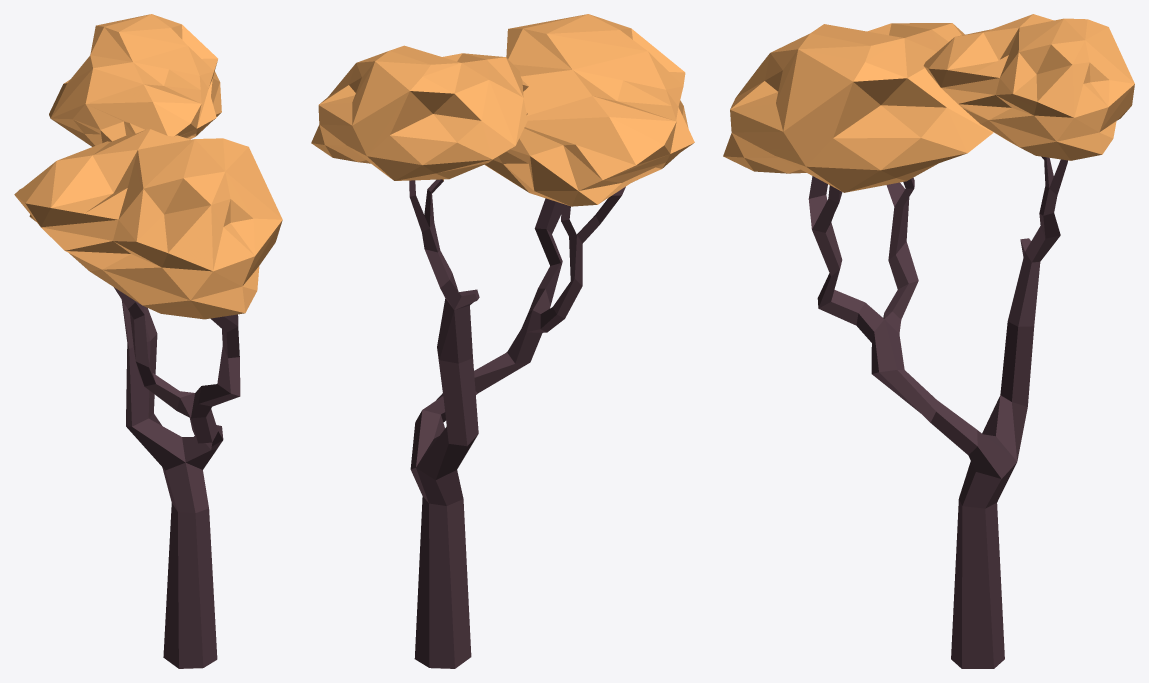
File: Tree1.fbx
The picture shows the model from 3 angles, left to right: view 1: azimuth 30°, elevation 25°; view 2: azimuth 150°, elevation 25°; view 3: azimuth 270°, elevation 25°; orthographic projection. The views are drawn at different scales.
Parts seen in each view (by area): view 1: SM_Env_Tree_01; view 2: SM_Env_Tree_01; view 3: SM_Env_Tree_01.
Boxes of the visible parts, x1,y1,x2,y2 form: SM_Env_Tree_01: (14, 14, 282, 668); SM_Env_Tree_01: (311, 14, 694, 668); SM_Env_Tree_01: (723, 14, 1134, 668).
Size of the model in its own units: 1.87 by 4.21 by 2.51.
